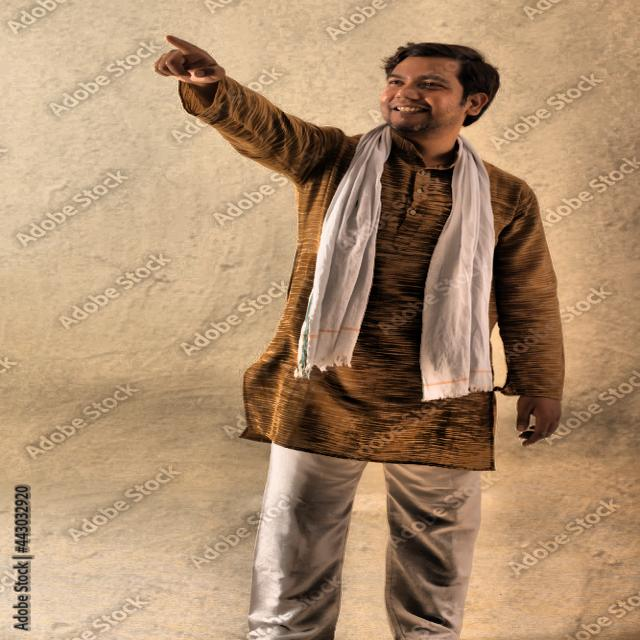Human: (145, 18, 571, 640)
